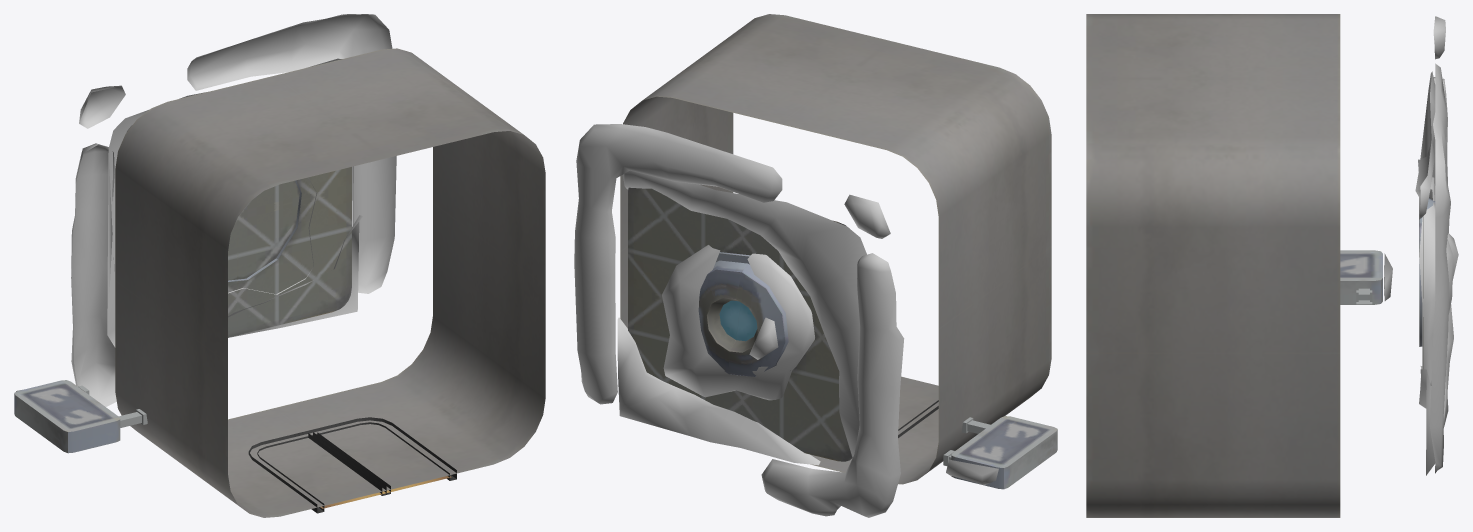
Rendered from pref_sm_city_ramen05c_snow_lv3.fbx.
The picture shows the model from 3 angles, left to right: view 1: azimuth 30°, elevation 25°; view 2: azimuth 150°, elevation 25°; view 3: azimuth 270°, elevation 25°; orthographic projection. The views are drawn at different scales.
Visible parts, largest first — view 1: sm_city_ramen05c_snow_lv3, sm_city_ramen05c2_snow_lv3; view 2: sm_city_ramen05c_snow_lv3, sm_city_ramen05c2_snow_lv3; view 3: sm_city_ramen05c_snow_lv3, sm_city_ramen05c2_snow_lv3.
Part boxes in pixels (left/top/right/bottom): sm_city_ramen05c_snow_lv3: left=14, top=48, right=545, bottom=517; sm_city_ramen05c2_snow_lv3: left=16, top=14, right=396, bottom=406; sm_city_ramen05c_snow_lv3: left=620, top=14, right=1057, bottom=489; sm_city_ramen05c2_snow_lv3: left=574, top=124, right=998, bottom=517; sm_city_ramen05c_snow_lv3: left=1086, top=14, right=1435, bottom=517; sm_city_ramen05c2_snow_lv3: left=1384, top=16, right=1458, bottom=475.
Bounding box in the file's own units: 7.14 × 5.77 × 5.02.
Materials: 2 (1 with a texture image).
